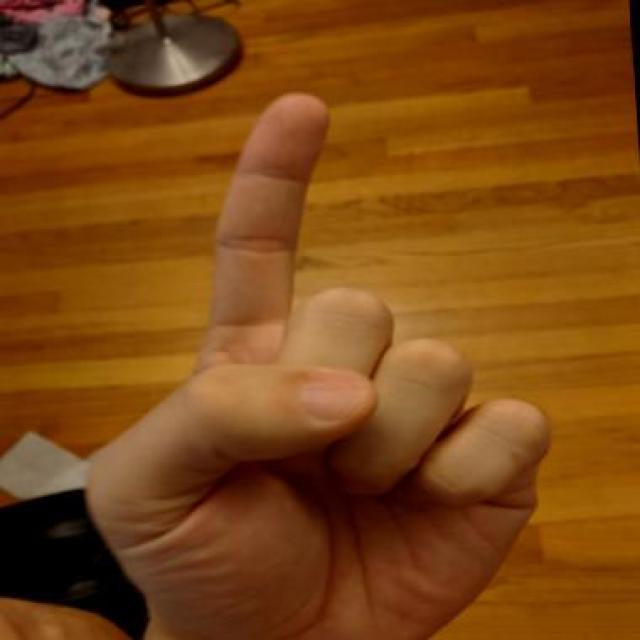D: (72, 81, 559, 640)
